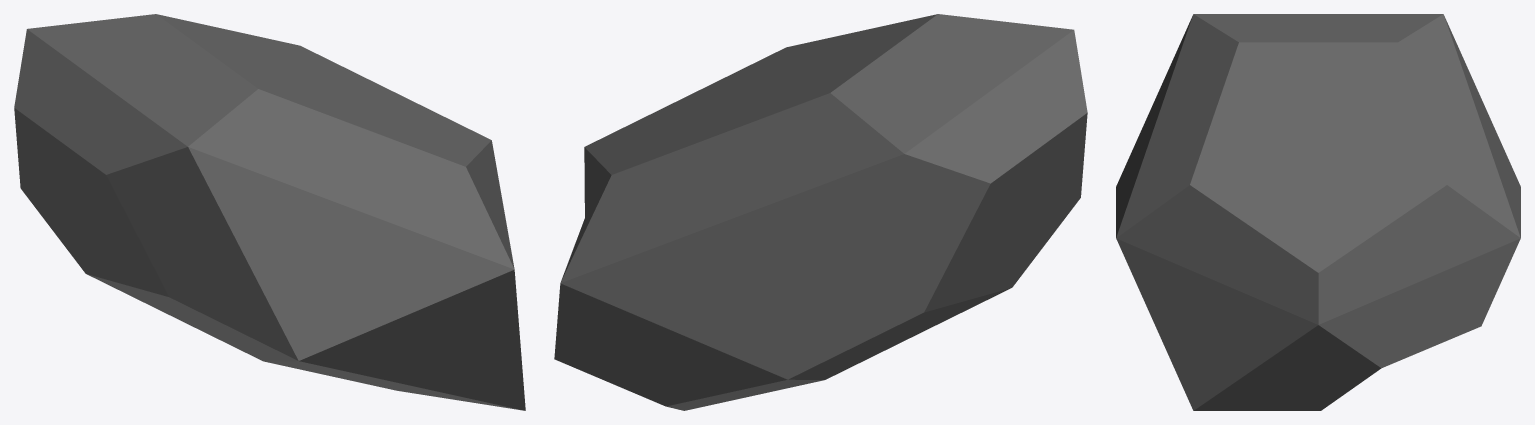
File: BigRock.fbx
3 renders of one model, left to right at view 1: azimuth 30°, elevation 25°; view 2: azimuth 150°, elevation 25°; view 3: azimuth 270°, elevation 25°, orthographic. The views are drawn at different scales.
Visible parts, largest first — view 1: Icosphere.004; view 2: Icosphere.004; view 3: Icosphere.004.
Part boxes in pixels (x1,y1,x2,y2): Icosphere.004: (14,14,525,410); Icosphere.004: (554,14,1087,410); Icosphere.004: (1116,14,1520,410).
Size of the model in its own units: 4.99 by 3.96 by 5.22.
